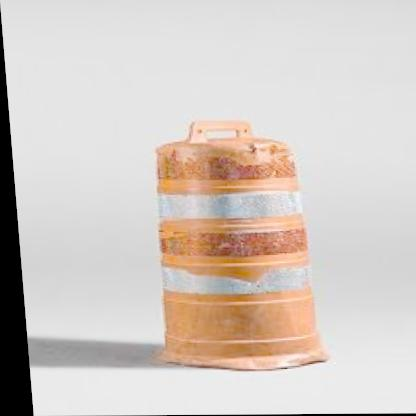obstacle: (134, 117, 331, 383)
